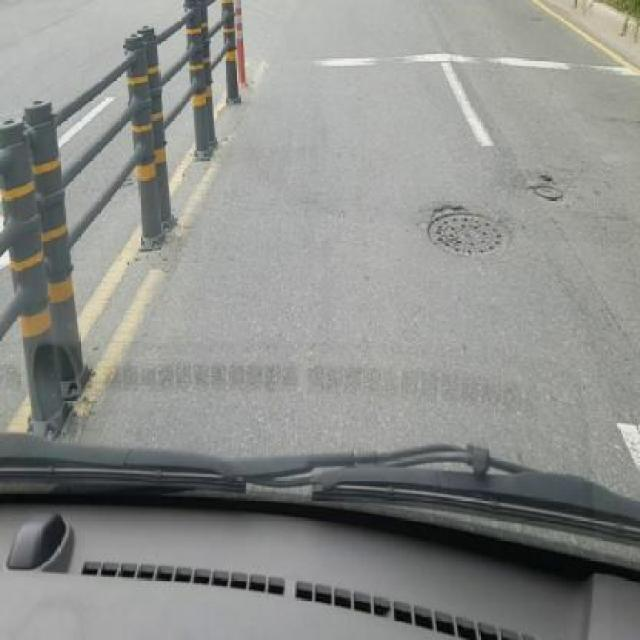Manhole: (425, 203, 513, 260), (528, 173, 578, 207)
Pothole: (429, 204, 468, 212)
